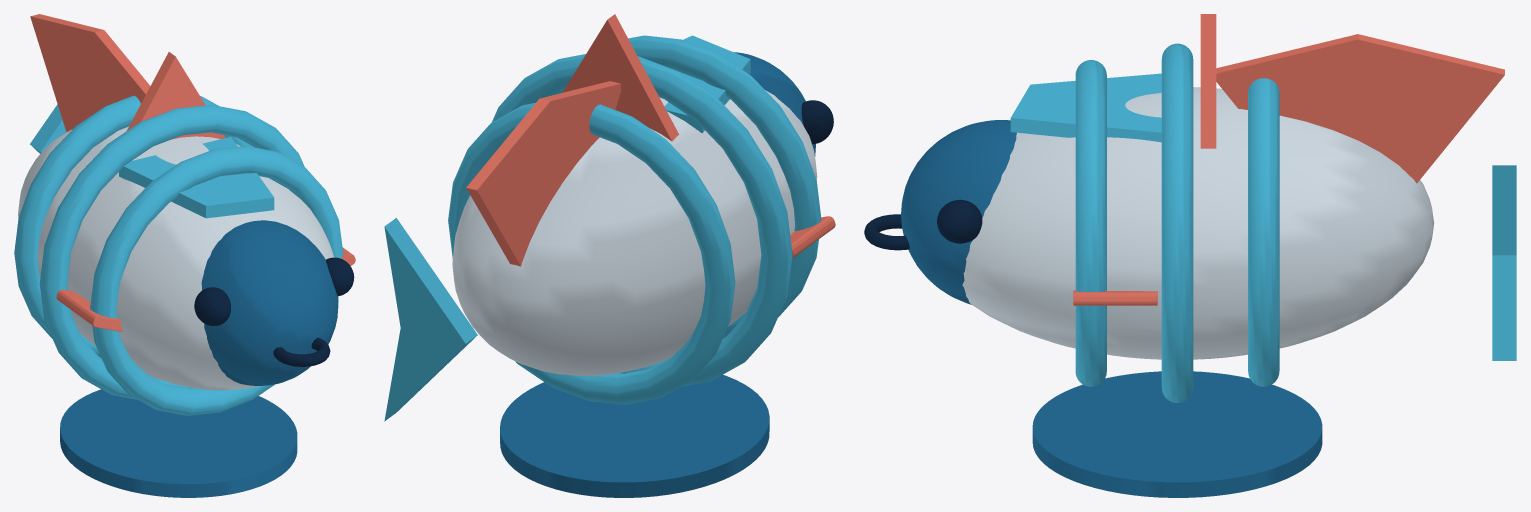
File: 0311_古生代动物图鉴_旋齿鲨.glb
The picture shows the model from 3 angles, left to right: view 1: azimuth 30°, elevation 25°; view 2: azimuth 150°, elevation 25°; view 3: azimuth 270°, elevation 25°; orthographic projection. The views are drawn at different scales.
Visible parts, largest first — view 1: card_0311; view 2: card_0311; view 3: card_0311.
Boxes of the visible parts, x1,y1,x2,y2 form: card_0311: [14, 14, 355, 497]; card_0311: [384, 14, 835, 497]; card_0311: [864, 14, 1516, 497].
Bounding box in the file's own units: 0.7567 × 1 × 1.37.
